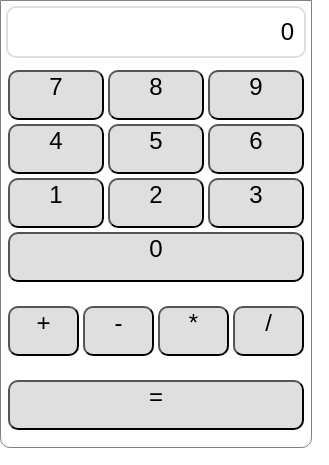
Scenario: displays a multi-digit number as you click
Click the button with class "digit" showing "7".
click(56, 95)  # box x1=8 y1=70 x2=104 y2=120
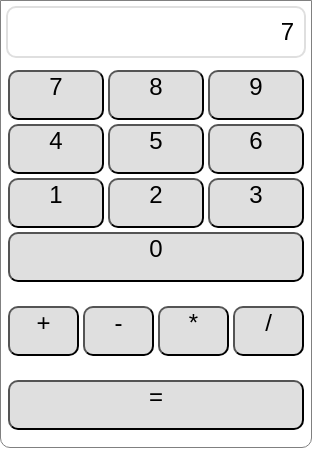
Click the button with class "digit" showing "0".
click(156, 257)  # box x1=8 y1=232 x2=304 y2=282
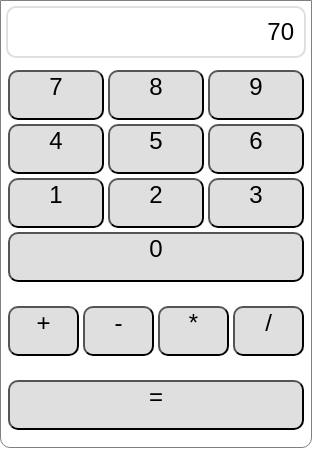
Result: the text with class "Display" reads "70" at x1=267 y1=18 x2=294 y2=45
